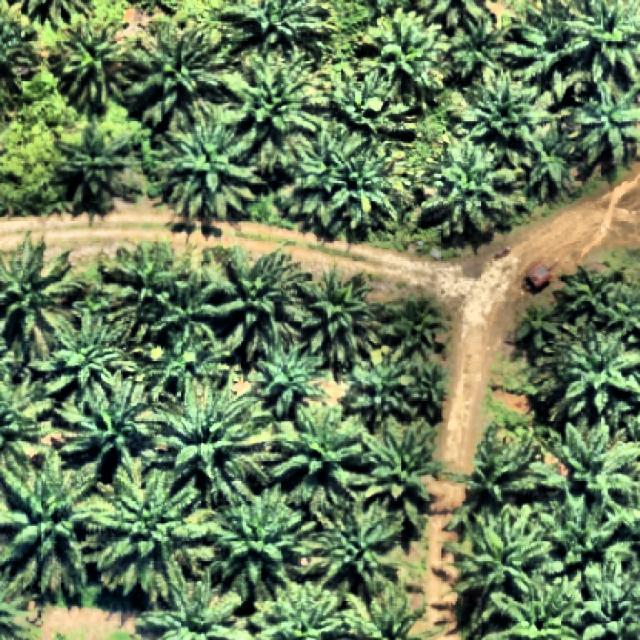Kelapa_Sawit: (82, 464, 210, 598), (152, 376, 272, 506), (222, 53, 332, 178), (210, 232, 308, 365), (152, 116, 268, 227), (268, 399, 372, 518), (412, 132, 523, 238), (118, 23, 230, 128), (50, 365, 158, 473), (357, 410, 455, 528), (448, 66, 556, 169), (440, 500, 552, 598), (279, 118, 372, 228), (293, 256, 382, 370), (96, 228, 189, 337), (206, 499, 320, 587), (304, 504, 408, 600), (46, 14, 139, 118), (36, 304, 141, 396), (49, 115, 145, 214), (352, 6, 450, 94), (514, 2, 602, 100), (322, 138, 413, 232), (533, 483, 630, 571), (557, 317, 640, 417), (152, 266, 232, 359), (547, 417, 640, 497), (331, 59, 418, 138), (465, 424, 547, 507), (370, 294, 452, 372), (450, 8, 524, 86), (551, 261, 627, 327), (258, 362, 334, 420), (526, 138, 574, 206), (514, 300, 562, 349)
